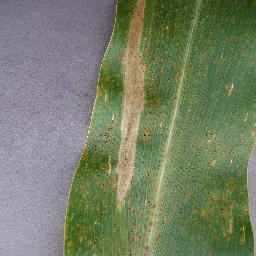Corn_Blight: (101, 1, 156, 210), (198, 182, 256, 246), (60, 139, 86, 256), (158, 48, 194, 86), (88, 211, 107, 256), (158, 12, 175, 47), (228, 36, 254, 57), (238, 120, 256, 147), (125, 232, 146, 254), (148, 223, 161, 253), (156, 103, 167, 132), (206, 154, 222, 170), (225, 80, 239, 97), (175, 163, 196, 174), (204, 130, 219, 141), (158, 155, 167, 171), (184, 193, 197, 202)
